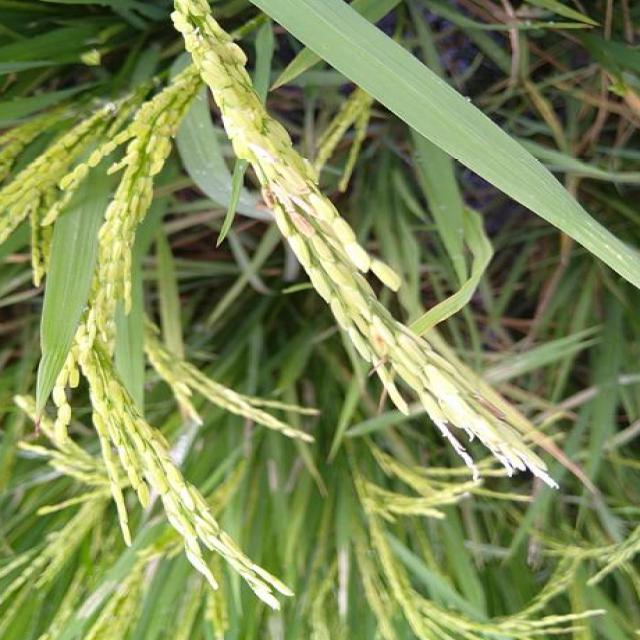Panicle Blight: (250, 143, 310, 193), (252, 161, 274, 209), (473, 394, 508, 421), (287, 208, 316, 236), (369, 324, 388, 361)
